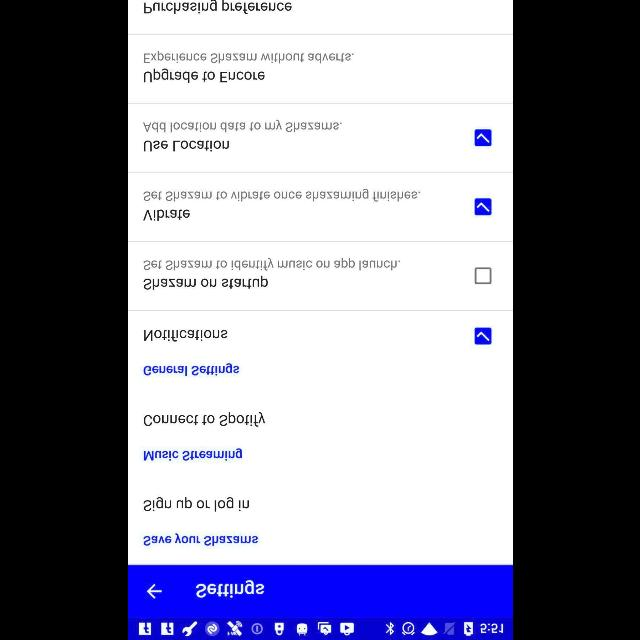checkbox: (474, 198, 491, 216), (474, 130, 491, 146), (474, 268, 491, 284), (474, 328, 491, 344)
icon: (146, 583, 162, 599)
text: (143, 188, 420, 202), (143, 258, 400, 270), (143, 50, 353, 64), (142, 120, 342, 132), (143, 0, 291, 14), (143, 68, 264, 84), (142, 276, 268, 290), (143, 412, 265, 426), (142, 496, 248, 512), (143, 532, 257, 546), (143, 362, 239, 376), (195, 579, 263, 597), (143, 448, 241, 460), (144, 140, 228, 152), (144, 330, 226, 342), (143, 209, 190, 221)
toolbar: (128, 566, 512, 616)
uppertaskbar: (128, 617, 512, 639)
